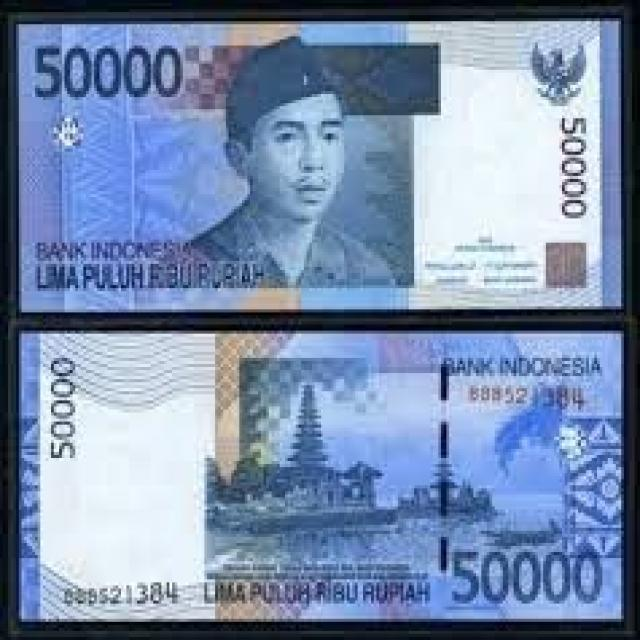lima puluh ribu rupiah: (0, 325, 638, 638), (8, 5, 637, 305), (220, 32, 352, 224), (444, 534, 608, 614), (34, 41, 186, 100)
